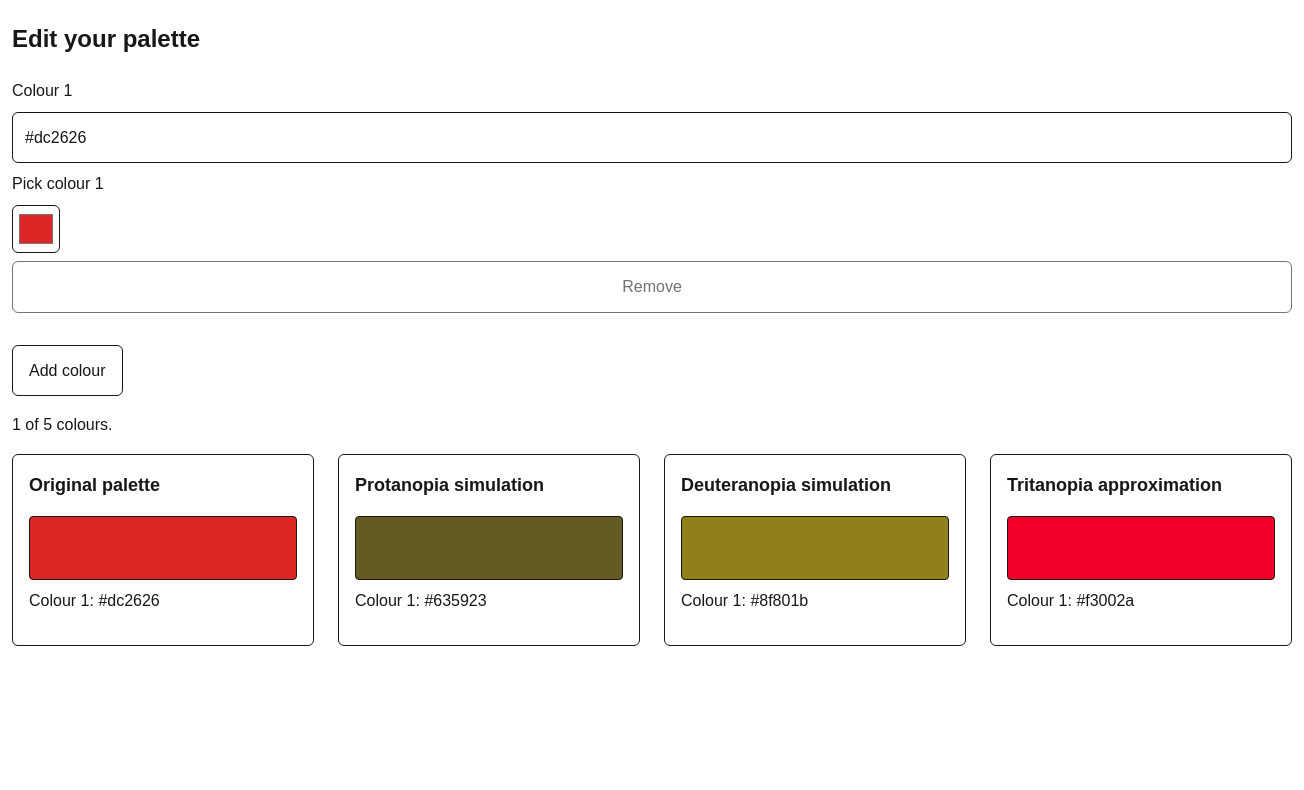
Test: keeps last-valid URL values and enforces the one-to-five colour limits
expect the button with aria-label "Remove colour 1" is disabled: met, box [12,261,1292,313]
Replace the text in the field labelled "Colour 1" with "#zz": (652,138) [12,112,1292,163]
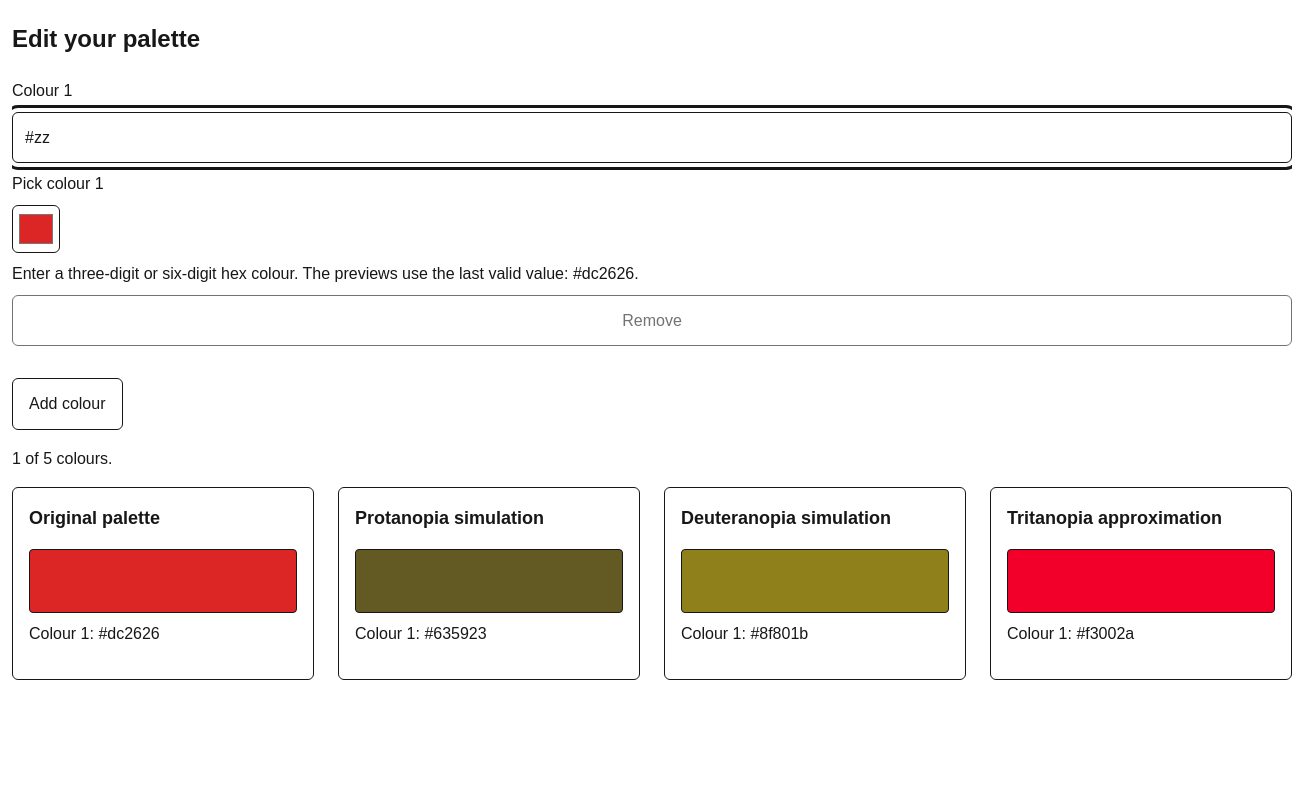
expect the field labelled "Colour 1" is marked as invalid: met, box [12,112,1292,163]
Click the button "Add colour": (67,404) [12,378,122,430]
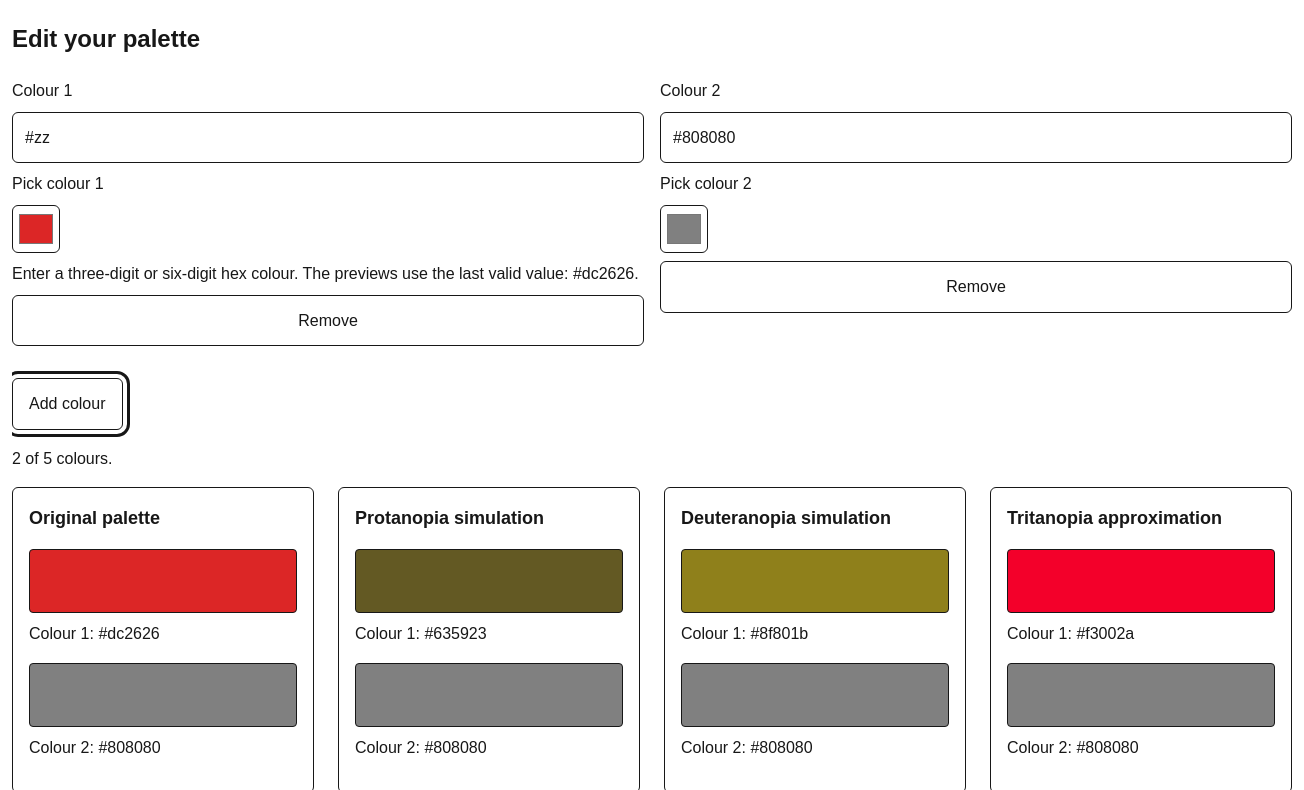
Click the button "Add colour": (67,404) [12,378,122,430]
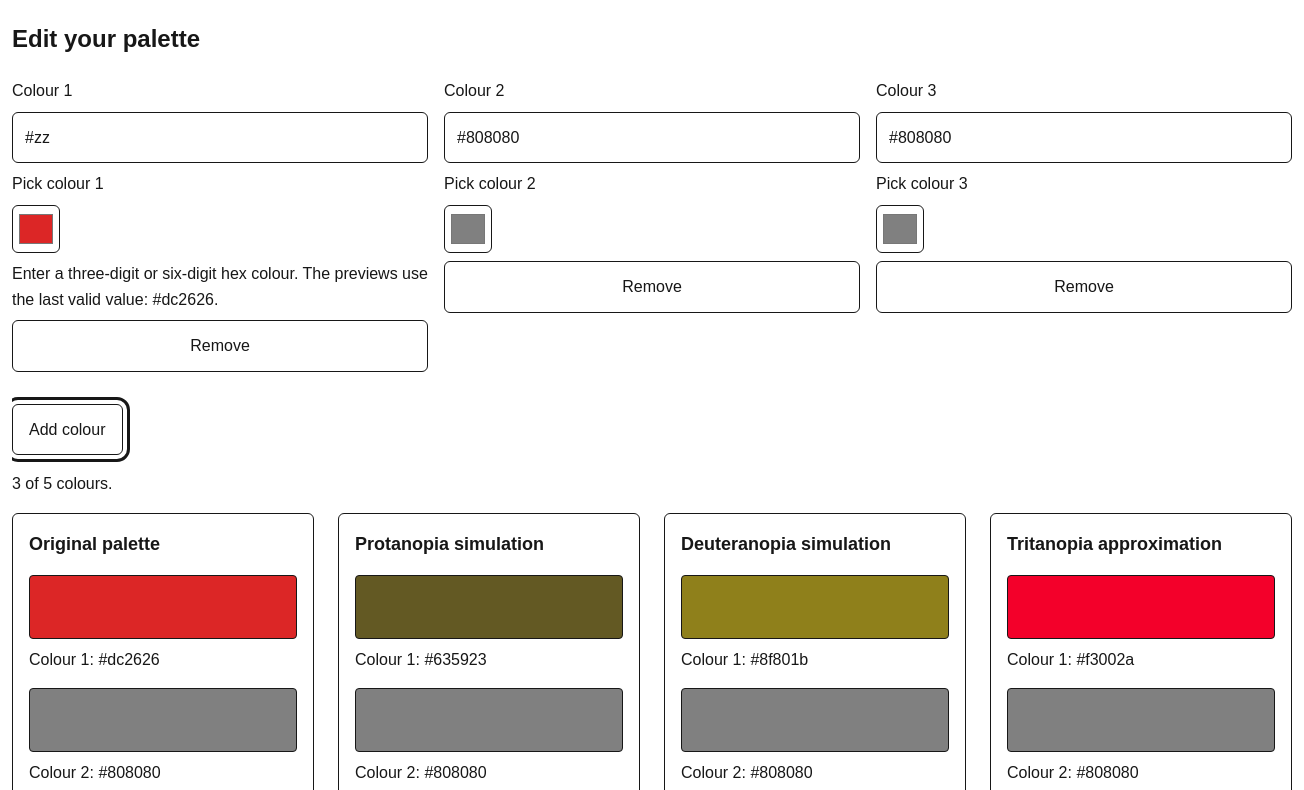
Click the button "Add colour": (67,430) [12,404,122,455]
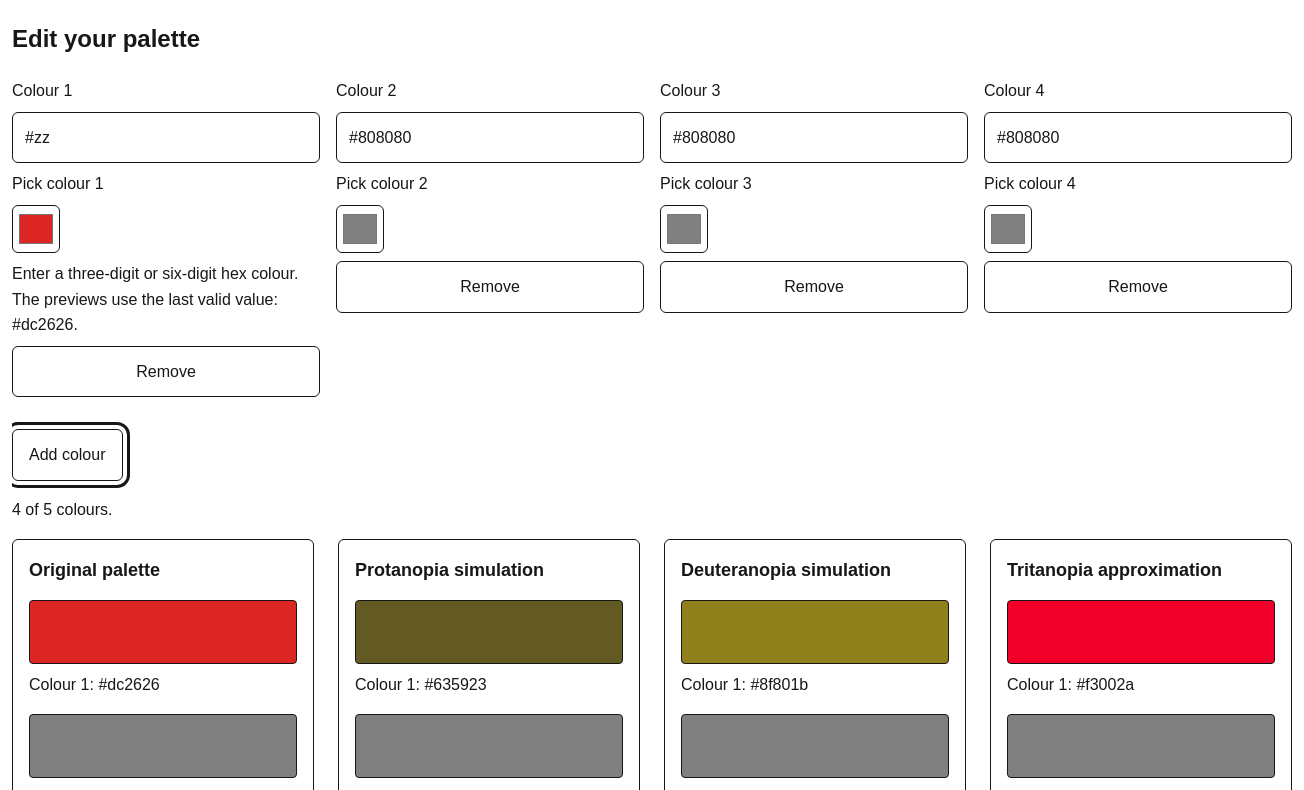
Click the button "Add colour": (67,455) [12,429,122,481]
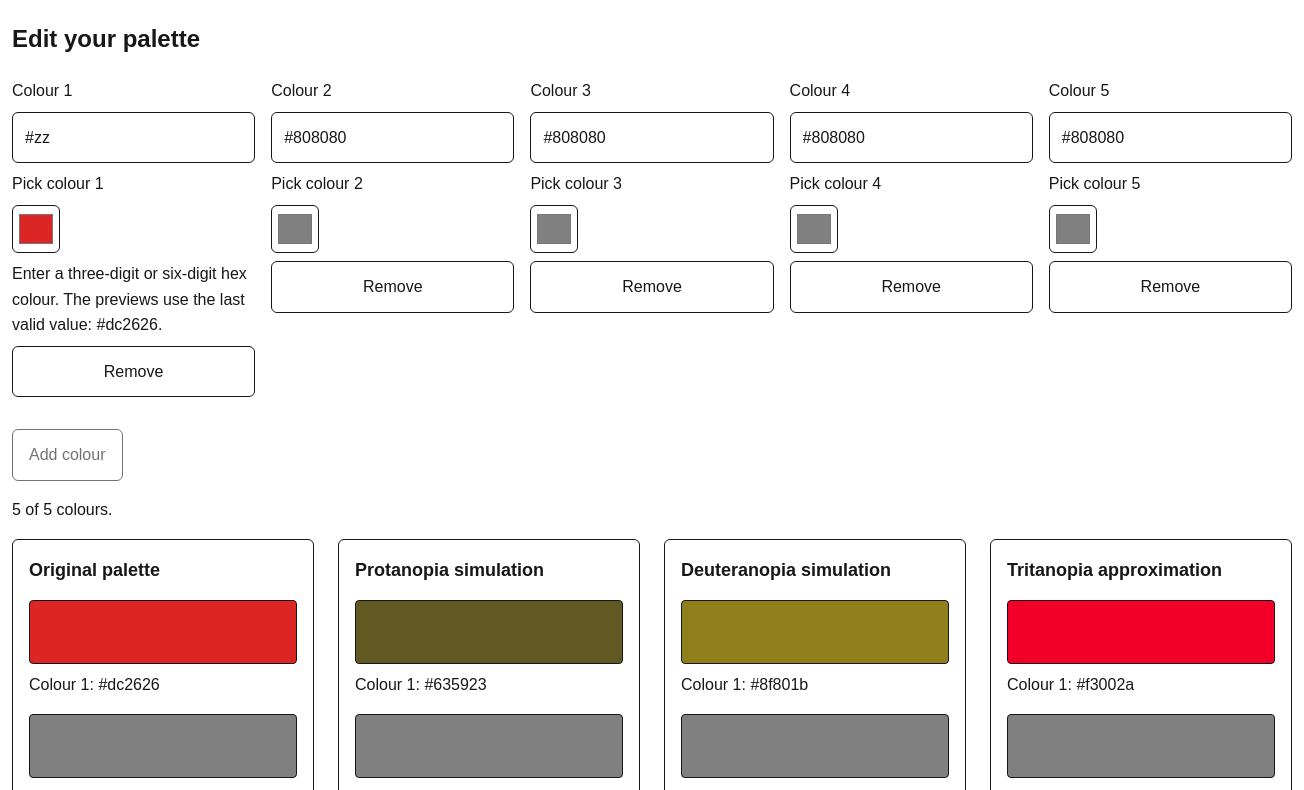
expect the number of fields is 5: met, box [12,112,255,163]; [271,112,514,163]; [530,112,774,163]; [790,112,1033,163]; [1049,112,1292,163]
expect the button "Add colour" is disabled: met, box [12,429,122,481]
Click the button with aria-label "Remove colour 5": (1170,287) [1049,261,1292,313]
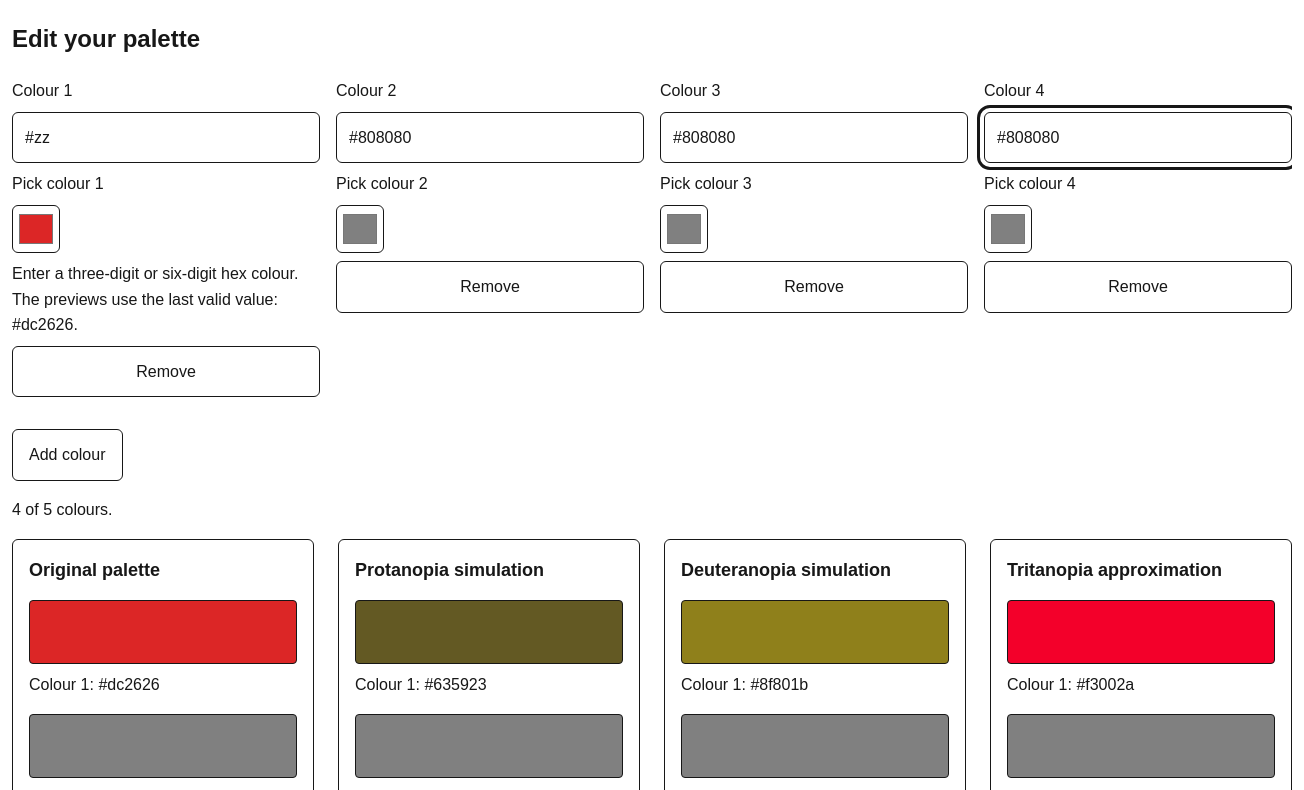
expect the button "Add colour" is enabled: met, box [12,429,122,481]
